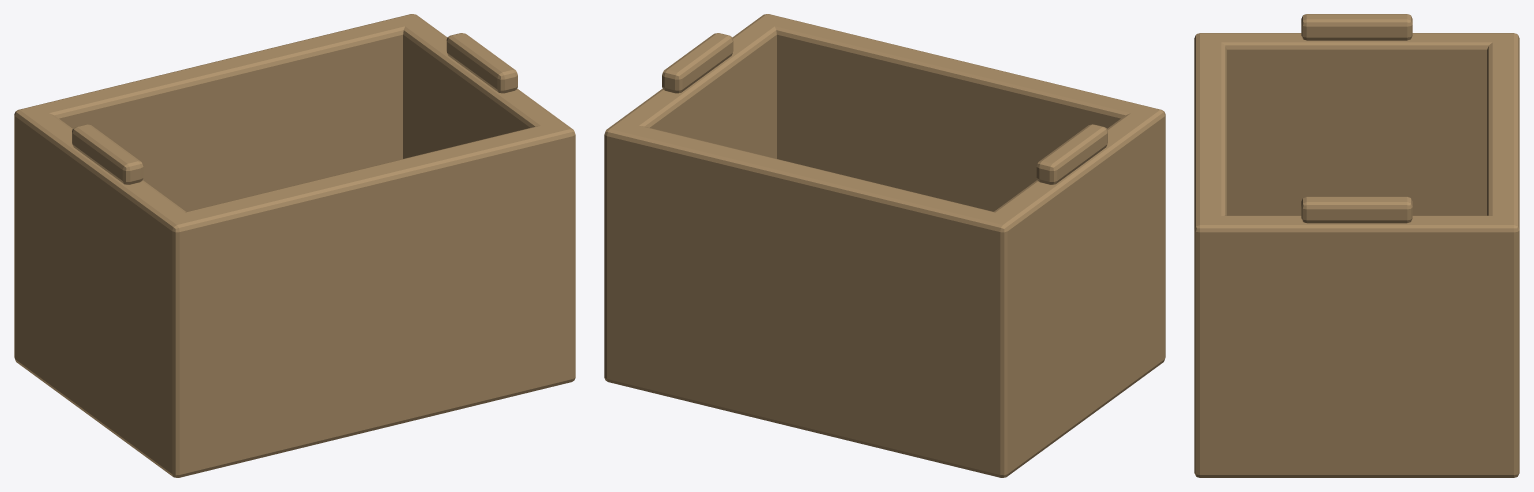
File: LaundryBasket.fbx
3 views of the same model, side by side, from view 1: azimuth 30°, elevation 25°; view 2: azimuth 150°, elevation 25°; view 3: azimuth 270°, elevation 25° (orthographic).
Visible parts, largest first — view 1: LaundryBasket; view 2: LaundryBasket; view 3: LaundryBasket.
Part boxes in pixels (x1,y1,x2,y2): LaundryBasket: (14, 14, 575, 477); LaundryBasket: (604, 14, 1165, 477); LaundryBasket: (1194, 14, 1519, 477).
Bounding box in the file's own units: 0.5 × 0.325 × 0.35.
